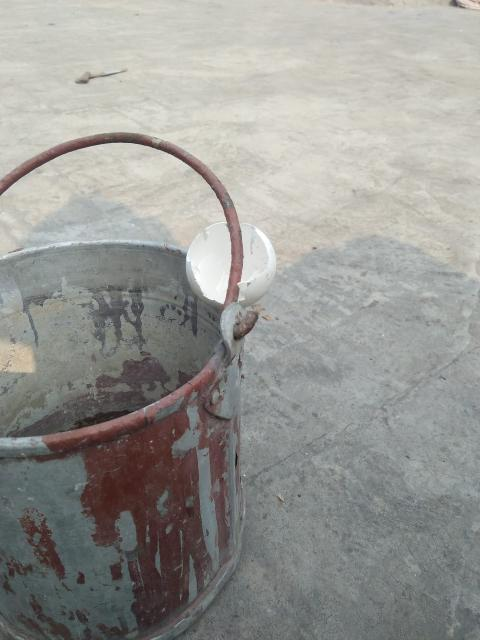Roto: (184, 219, 278, 307)
